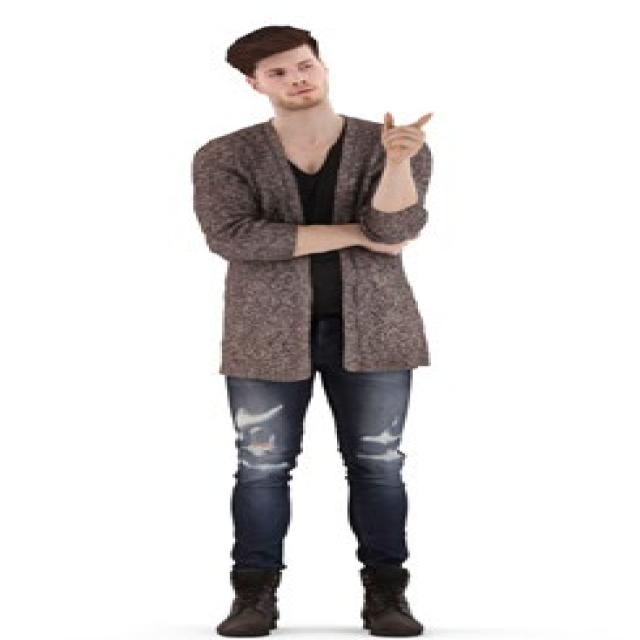standing: (186, 24, 446, 638)
